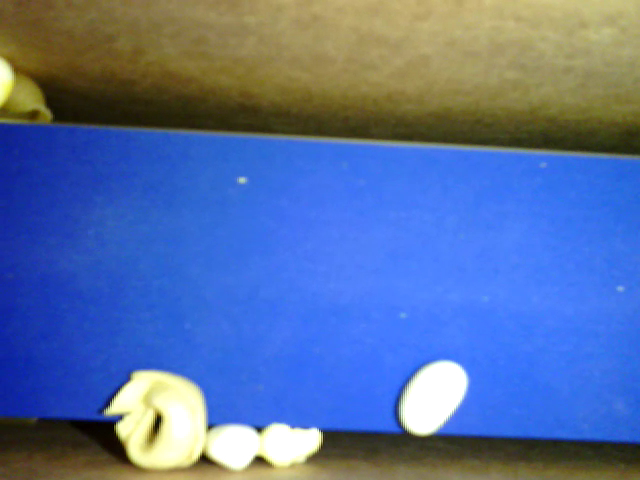shell: (1, 71, 52, 127)
tortellini: (104, 368, 209, 469)
